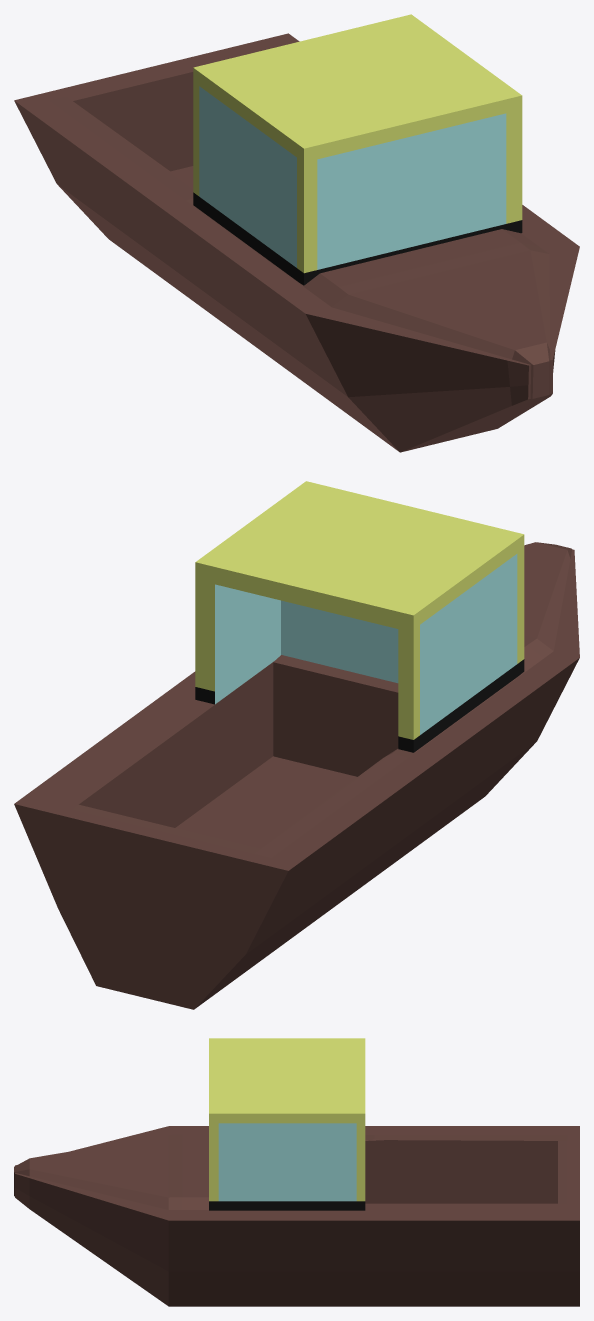
File: ship.fbx
The picture shows the model from 3 angles, top to bottom: view 1: azimuth 30°, elevation 25°; view 2: azimuth 150°, elevation 25°; view 3: azimuth 270°, elevation 25°; orthographic projection. The views are drawn at different scales.
Parts seen in each view (by area): view 1: Cube, Cube.001; view 2: Cube, Cube.001; view 3: Cube, Cube.001.
Part boxes in pixels (bbox=[...]): Cube: bbox=[14, 33, 579, 452]; Cube.001: bbox=[193, 14, 522, 285]; Cube: bbox=[14, 542, 579, 1009]; Cube.001: bbox=[195, 481, 524, 752]; Cube: bbox=[14, 1126, 579, 1306]; Cube.001: bbox=[209, 1038, 365, 1210].
Size of the model in its own units: 345 by 359 by 872.
